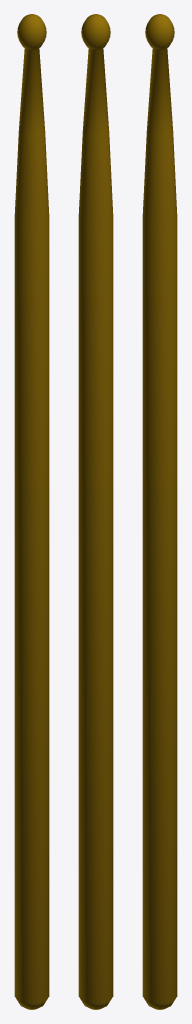
Rendered from SM_Drumstick.fbx.
The picture shows the model from 3 angles, left to right: view 1: azimuth 30°, elevation 25°; view 2: azimuth 150°, elevation 25°; view 3: azimuth 330°, elevation 25°; orthographic projection.
Parts seen in each view (by area): view 1: Drum_Stick_Q; view 2: Drum_Stick_Q; view 3: Drum_Stick_Q.
Part boxes in pixels (x1,y1,x2,y2): Drum_Stick_Q: (14, 14, 49, 1009); Drum_Stick_Q: (78, 14, 113, 1009); Drum_Stick_Q: (142, 14, 177, 1009).
Bounding box in the file's own units: 2.23 × 70.38 × 2.23.
